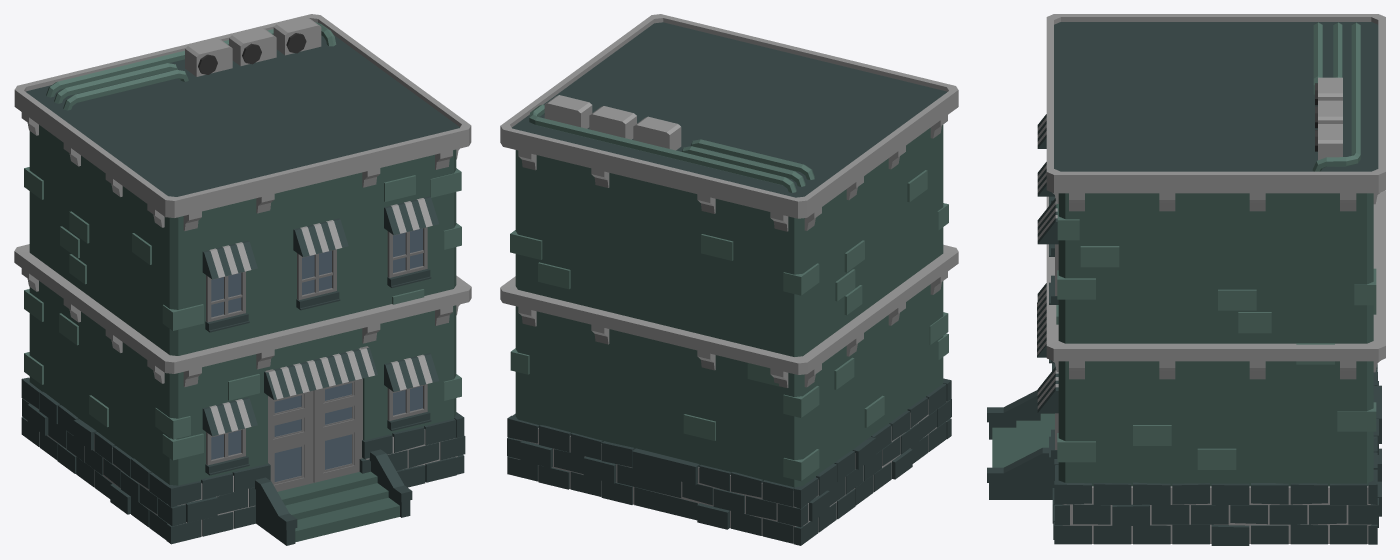
File: 2Story_Double.glb
3 views of the same model, side by side, from view 1: azimuth 30°, elevation 25°; view 2: azimuth 150°, elevation 25°; view 3: azimuth 270°, elevation 25° (orthographic). The views are drawn at different scales.
Parts seen in each view (by area): view 1: 2Story_Double_Mat; view 2: 2Story_Double_Mat; view 3: 2Story_Double_Mat.
Boxes of the visible parts, box(x1,y1,x2,y2) form: 2Story_Double_Mat: box(14, 14, 471, 545); 2Story_Double_Mat: box(500, 14, 958, 545); 2Story_Double_Mat: box(987, 14, 1385, 545).
Bounding box in the file's own units: 2.42 × 2.75 × 2.53.
